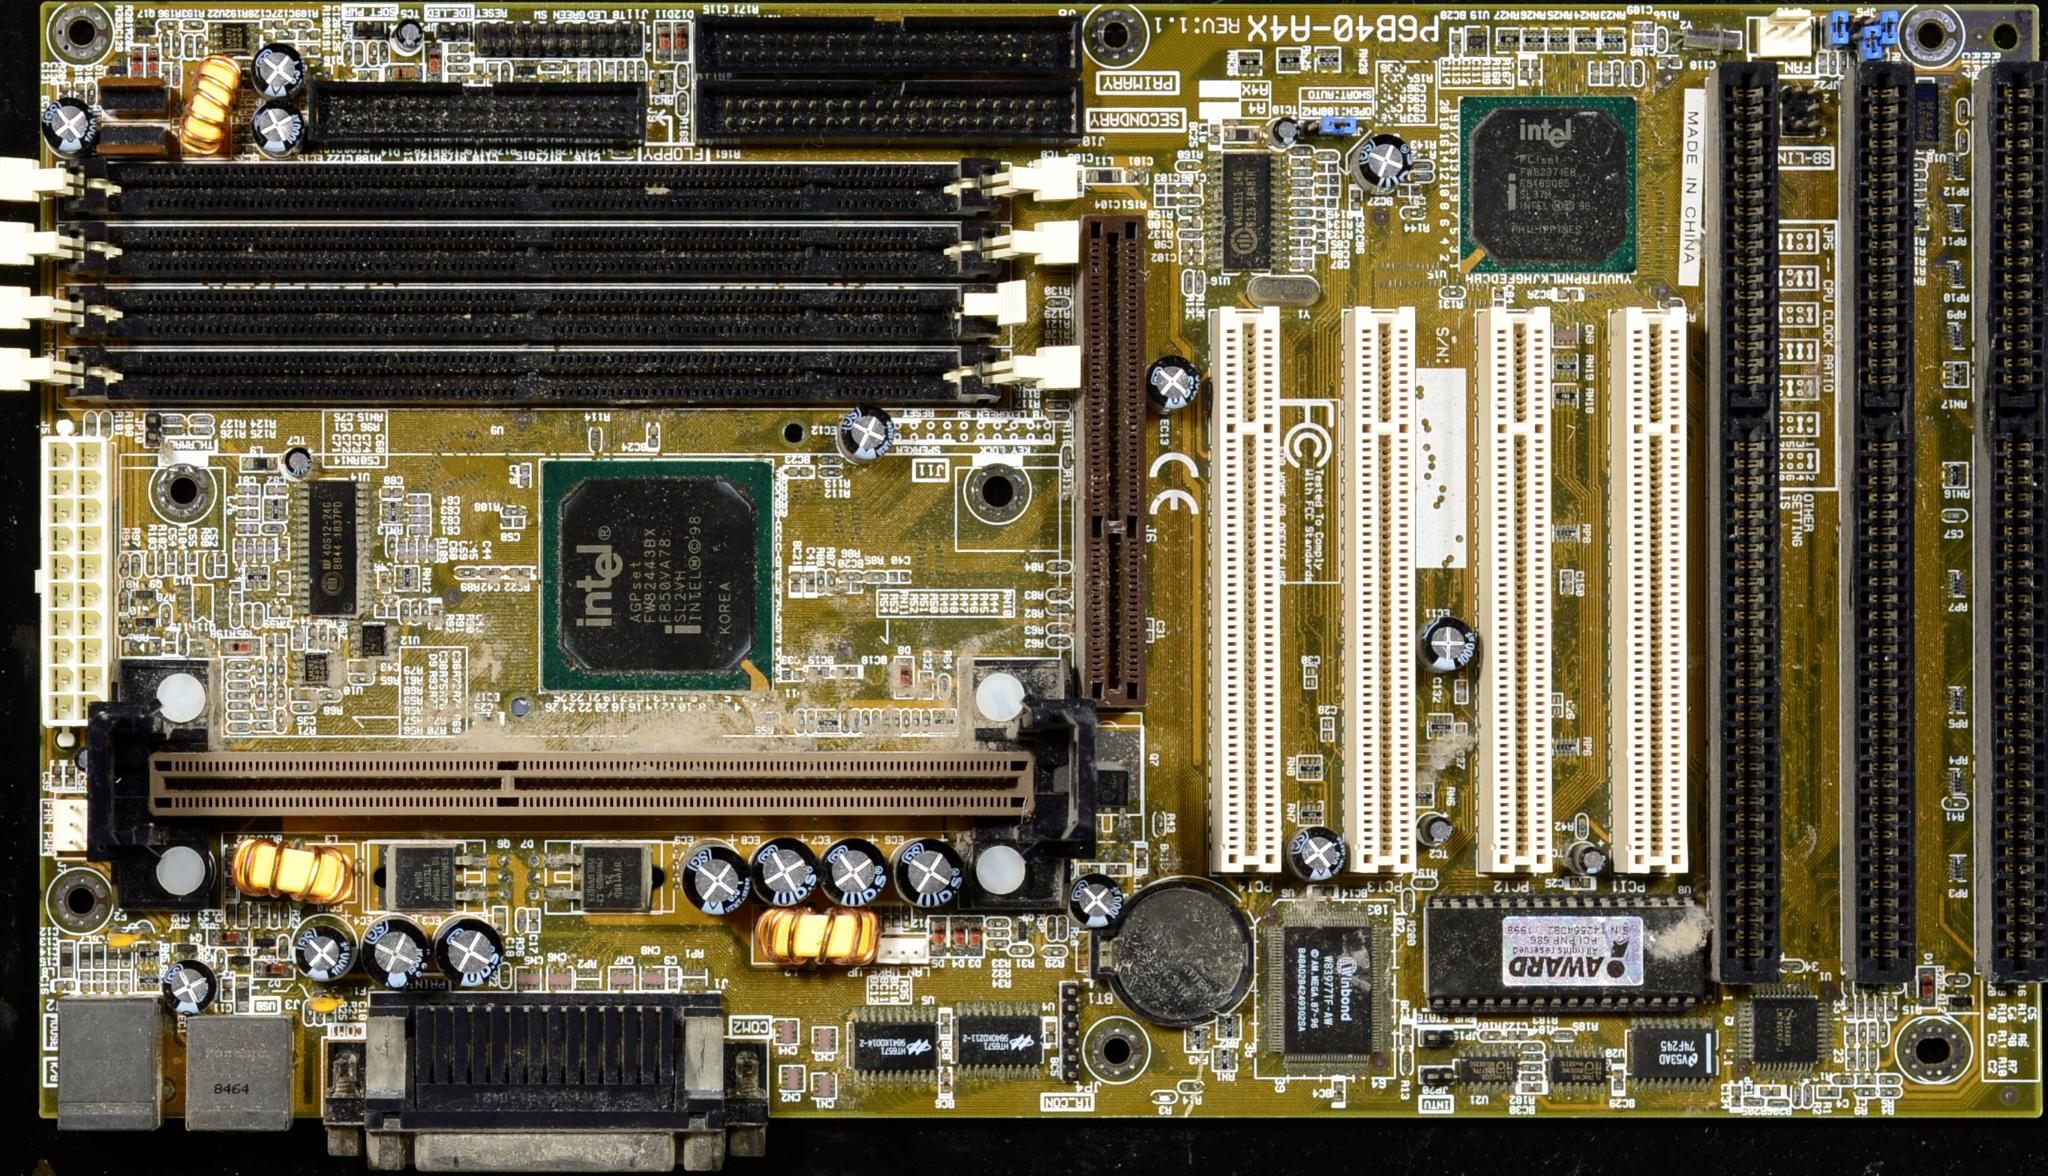Capacitor Jumper: (59, 941, 75, 976), (492, 905, 506, 937), (128, 49, 143, 77), (803, 564, 816, 596), (919, 670, 933, 698), (1657, 53, 1684, 68), (347, 658, 374, 671), (527, 906, 540, 931), (665, 965, 678, 990), (219, 975, 232, 1000), (1816, 1083, 1841, 1096), (77, 942, 90, 966), (1588, 60, 1601, 84), (73, 83, 84, 110), (499, 962, 511, 989), (1179, 239, 1205, 250), (505, 567, 532, 578), (146, 51, 158, 77), (1286, 260, 1315, 270), (1177, 252, 1203, 263), (1632, 34, 1654, 46), (408, 513, 430, 526), (477, 565, 499, 578), (1560, 568, 1573, 591), (290, 686, 315, 698), (160, 63, 172, 87), (118, 942, 129, 966), (260, 18, 284, 30), (1153, 194, 1175, 207), (236, 494, 257, 506), (118, 969, 129, 992), (1153, 183, 1176, 194), (1398, 183, 1421, 194), (82, 968, 91, 993), (1504, 1028, 1529, 1038), (1177, 196, 1203, 205), (1177, 218, 1203, 228), (1287, 246, 1312, 256), (187, 549, 197, 574), (1179, 183, 1200, 194), (1287, 238, 1315, 246), (1632, 21, 1653, 32), (238, 482, 259, 494), (408, 492, 429, 504), (890, 570, 911, 581), (291, 626, 302, 647), (58, 83, 68, 107), (94, 942, 104, 966), (94, 969, 104, 993), (520, 463, 530, 487), (217, 550, 226, 574), (1730, 1083, 1740, 1106), (1494, 287, 1505, 307), (264, 484, 287, 494), (408, 504, 430, 513), (1612, 62, 1622, 84), (107, 971, 117, 992), (1943, 508, 1964, 518), (236, 508, 257, 518), (325, 1000, 333, 1024), (354, 42, 363, 66), (1602, 60, 1611, 84), (172, 63, 180, 86), (408, 526, 430, 535), (380, 487, 405, 494), (108, 942, 115, 966), (167, 550, 174, 574), (501, 518, 523, 525)
Connector: (1838, 63, 1919, 980), (1972, 63, 2048, 980), (59, 340, 1001, 409), (1710, 60, 1779, 985), (63, 163, 994, 224), (143, 753, 1041, 814), (46, 290, 1017, 346), (59, 229, 999, 287), (1333, 307, 1418, 872), (1602, 308, 1685, 869), (1470, 307, 1550, 869), (1208, 305, 1277, 876), (1079, 214, 1145, 708), (692, 80, 1079, 146), (698, 15, 1082, 76), (309, 82, 644, 148)
IC: (536, 457, 775, 696), (1426, 895, 1715, 1010), (1459, 97, 1636, 271), (1256, 899, 1395, 1076), (295, 480, 367, 618), (1205, 152, 1281, 271), (1737, 983, 1833, 1076), (954, 999, 1045, 1078), (1630, 1016, 1717, 1089), (851, 1006, 937, 1079), (1549, 1044, 1609, 1092), (1457, 1045, 1516, 1090), (352, 620, 398, 663), (207, 20, 259, 56), (294, 654, 336, 684), (1464, 25, 1488, 56), (1943, 152, 1965, 180), (1947, 262, 1968, 286), (1945, 204, 1965, 229)
Resistor Jumper: (122, 637, 160, 656), (1176, 1076, 1204, 1090), (117, 588, 129, 616), (1411, 875, 1438, 888), (264, 536, 277, 561), (1944, 972, 1968, 985), (1400, 207, 1423, 219), (1045, 587, 1069, 599), (1518, 1038, 1544, 1049), (1408, 172, 1435, 183), (1183, 269, 1194, 295), (1439, 286, 1466, 297), (160, 423, 187, 435), (118, 551, 129, 578), (159, 601, 170, 627), (515, 906, 525, 935), (1042, 942, 1068, 954), (1843, 996, 1855, 1018), (302, 999, 314, 1024), (1551, 1027, 1574, 1040), (1477, 1028, 1502, 1040), (1852, 1085, 1878, 1096), (1312, 197, 1338, 208), (236, 522, 259, 535), (384, 535, 395, 560), (277, 537, 288, 563), (277, 568, 288, 594), (1286, 217, 1314, 226), (159, 31, 169, 59), (172, 31, 181, 59), (233, 536, 243, 564), (826, 567, 836, 595), (1885, 993, 1896, 1017), (1876, 1020, 1888, 1044), (1315, 184, 1339, 196), (377, 41, 388, 65), (342, 42, 353, 66), (453, 565, 477, 577), (940, 674, 951, 698), (1049, 558, 1070, 571), (1940, 798, 1966, 807), (225, 899, 235, 926), (1045, 913, 1055, 940), (1906, 968, 1916, 995), (1516, 1051, 1543, 1061), (1518, 1068, 1544, 1078), (1151, 1090, 1177, 1100), (1312, 173, 1339, 183), (286, 18, 312, 28), (160, 414, 187, 423), (444, 44, 471, 53), (256, 537, 266, 564), (146, 550, 156, 577), (537, 62, 564, 72), (1401, 1051, 1412, 1073), (589, 428, 601, 450), (840, 570, 862, 581), (377, 568, 388, 591), (1047, 602, 1069, 613), (1287, 228, 1312, 238), (183, 34, 193, 59), (269, 606, 294, 616), (399, 599, 409, 625), (174, 632, 187, 651), (444, 63, 474, 72), (225, 681, 250, 691), (1287, 187, 1315, 196), (1287, 198, 1315, 207), (246, 537, 255, 565), (444, 53, 473, 62), (319, 689, 340, 701), (281, 900, 291, 924), (1058, 914, 1068, 938), (1867, 995, 1876, 1018), (1855, 995, 1865, 1018), (1878, 1073, 1902, 1083), (194, 35, 204, 59), (367, 42, 377, 66), (131, 551, 141, 575), (1048, 636, 1072, 646), (264, 633, 274, 657), (277, 658, 287, 682), (256, 682, 266, 706), (1623, 60, 1633, 84), (499, 62, 512, 80), (615, 62, 627, 80), (238, 899, 246, 926), (315, 997, 324, 1024), (204, 551, 212, 578), (347, 674, 374, 682), (225, 689, 252, 698), (677, 65, 686, 87), (1290, 158, 1312, 167), (298, 45, 321, 55), (1048, 623, 1070, 633), (1176, 207, 1201, 215), (1177, 229, 1203, 238), (499, 505, 525, 513), (226, 701, 252, 709), (291, 702, 316, 710), (1845, 1023, 1855, 1044), (677, 94, 686, 115), (1831, 1073, 1852, 1083), (1855, 1073, 1876, 1083), (1657, 30, 1667, 51), (387, 594, 397, 615), (253, 603, 263, 625), (603, 62, 615, 80), (1878, 1086, 1902, 1094), (1314, 152, 1338, 160), (1288, 167, 1312, 176), (1287, 177, 1311, 186), (156, 21, 180, 30), (188, 425, 212, 433), (820, 467, 844, 475), (260, 523, 284, 532), (156, 550, 165, 574), (176, 550, 184, 574), (231, 578, 239, 602), (277, 632, 286, 656), (225, 658, 249, 667), (228, 670, 252, 678), (226, 722, 250, 730), (1518, 1061, 1546, 1068), (487, 60, 497, 80), (985, 938, 1007, 947), (1010, 945, 1032, 954), (1858, 1020, 1867, 1042), (1867, 1020, 1875, 1042), (298, 31, 321, 39), (820, 456, 843, 464), (276, 684, 284, 706), (228, 710, 250, 719), (277, 709, 286, 731), (1633, 62, 1641, 84), (537, 73, 564, 80), (1287, 208, 1314, 215), (634, 62, 644, 80), (255, 719, 273, 729), (250, 900, 257, 926), (270, 900, 277, 926), (259, 900, 266, 926), (987, 917, 1009, 926), (1845, 1047, 1854, 1068), (1858, 1047, 1867, 1068), (1868, 1047, 1876, 1068), (1409, 160, 1431, 169), (1312, 163, 1338, 170), (181, 21, 203, 30), (1196, 270, 1203, 295), (866, 571, 888, 580), (377, 595, 385, 616), (331, 626, 338, 651), (266, 660, 274, 681), (1876, 995, 1883, 1018), (819, 570, 826, 594), (421, 601, 428, 625), (243, 601, 250, 625), (626, 60, 634, 80), (589, 62, 598, 80), (255, 710, 273, 719), (987, 928, 1009, 935), (232, 603, 239, 625), (256, 658, 263, 679), (321, 623, 326, 648), (309, 625, 315, 650), (1288, 148, 1312, 153), (191, 418, 215, 423), (411, 601, 416, 625), (269, 685, 274, 709), (277, 31, 295, 38), (580, 62, 587, 80)
Transistor: (367, 841, 485, 910), (172, 942, 200, 952)
